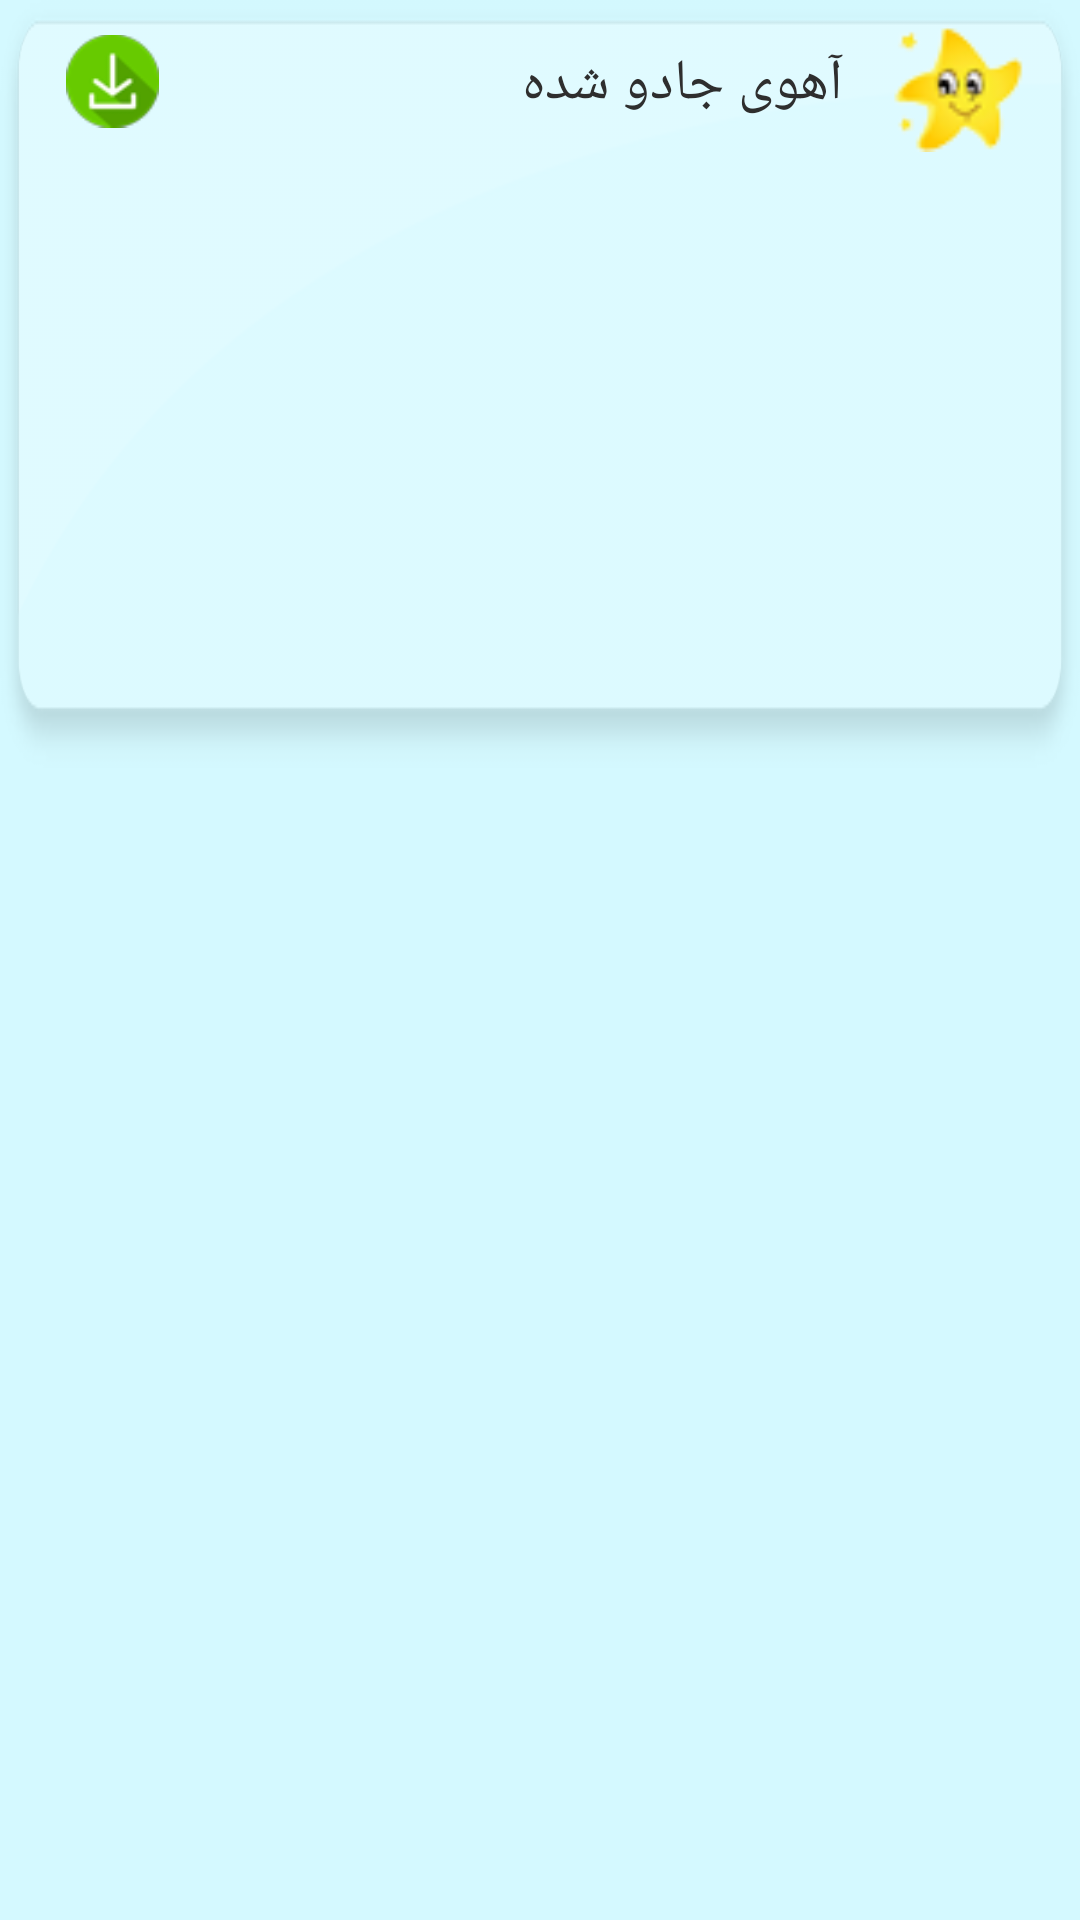

Where to tap for icons on this 1080w x 1920h app screen, as [x,y]:
download: [112,81]
